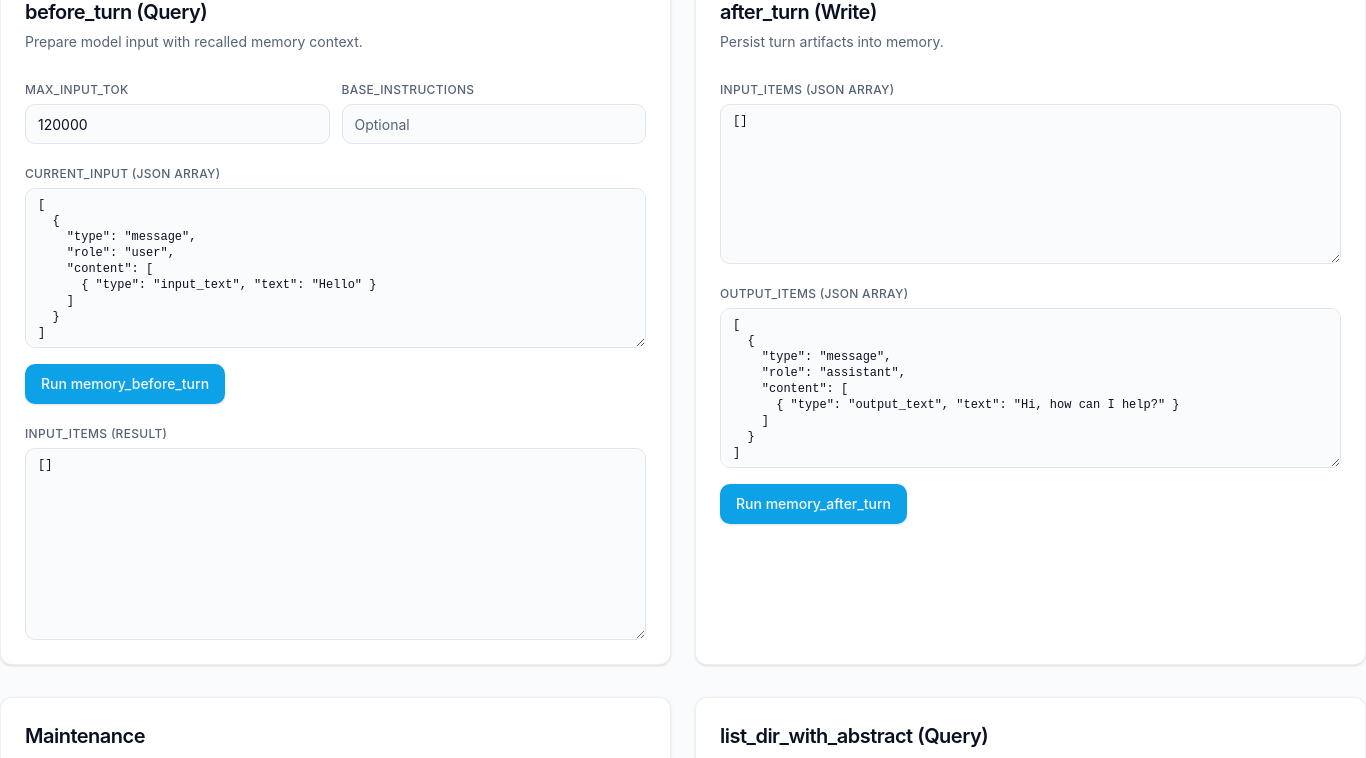
Scenario: MemoryPage private result boundaries › displays the original plain text remote error while marking it and leaving expected failure unreported
(page scrolled)
Click the button "Run memory_before_turn" at (125, 384), box x1=25 y1=364 x2=225 y2=404
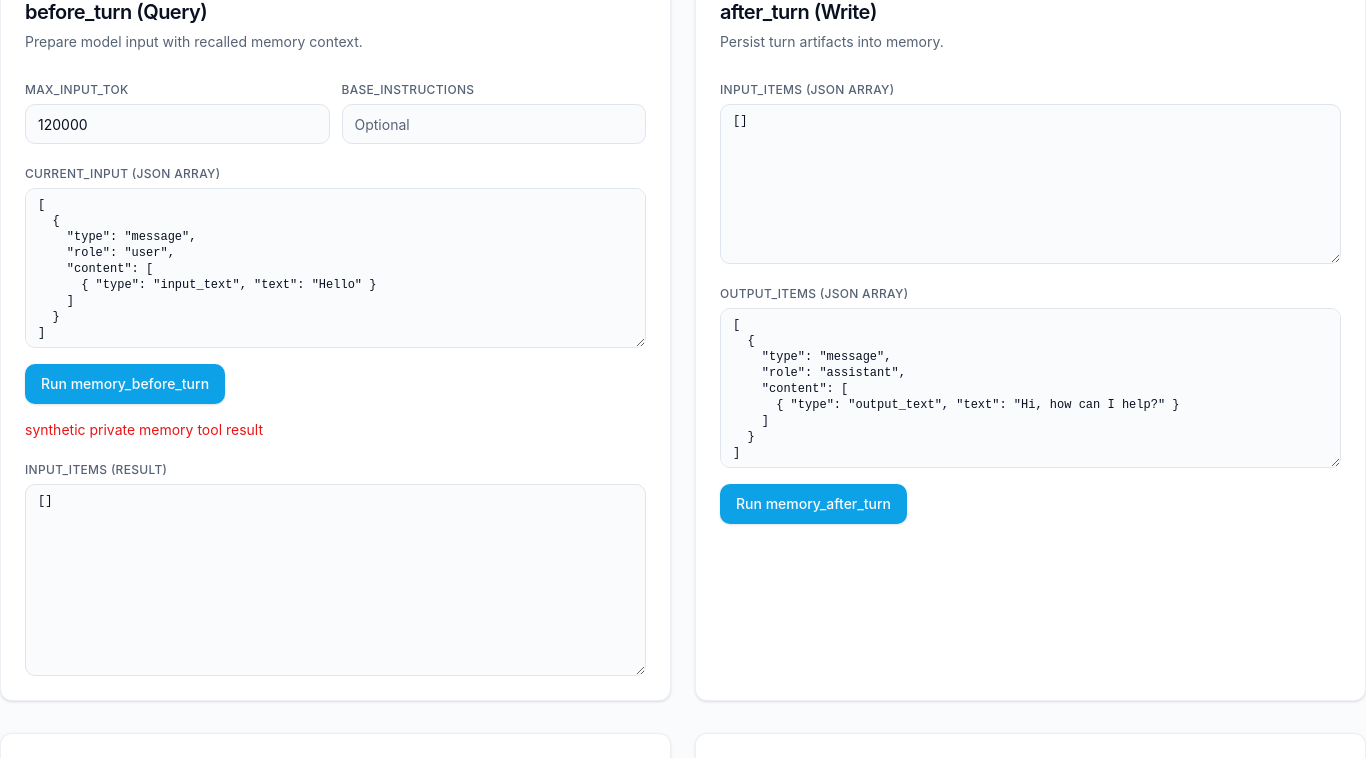
Result: the text "synthetic private memory tool result" is shown at x1=25 y1=421 x2=263 y2=438
